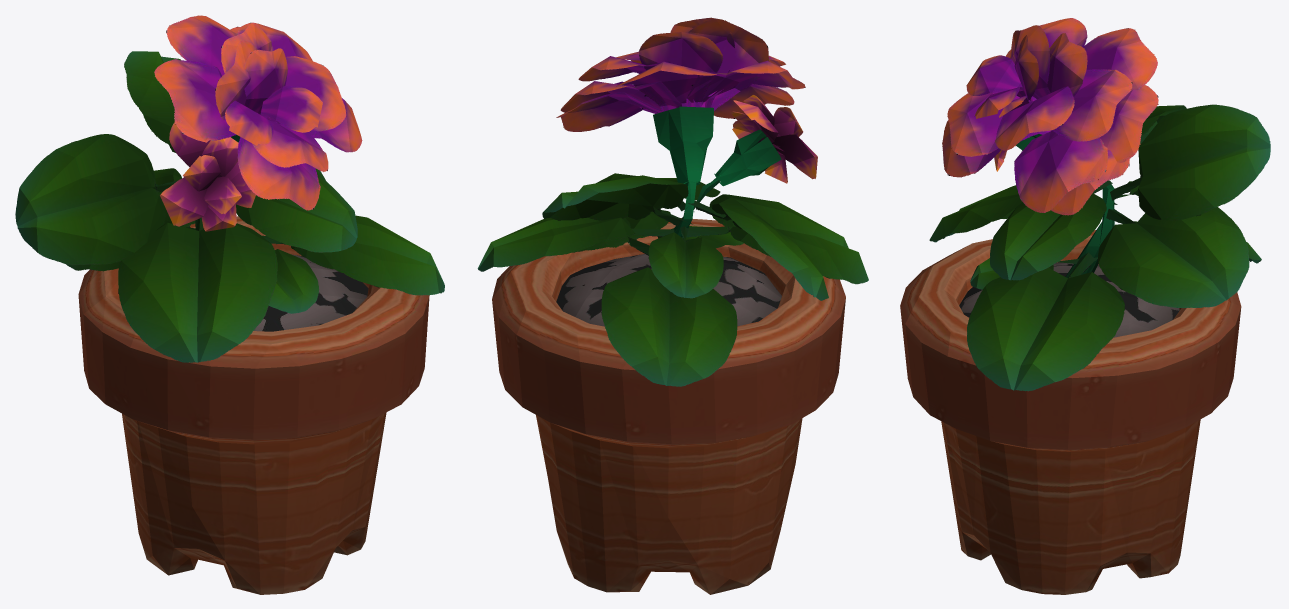
Rendered from VEG0310021.fbx.
3 views of the same model, side by side, from view 1: azimuth 30°, elevation 25°; view 2: azimuth 150°, elevation 25°; view 3: azimuth 270°, elevation 25° (orthographic). The views are drawn at different scales.
Visible parts, largest first — view 1: smVEG0310021; view 2: smVEG0310021; view 3: smVEG0310021.
Boxes of the visible parts, x1,y1,x2,y2 form: smVEG0310021: (15, 15, 444, 594); smVEG0310021: (477, 17, 868, 594); smVEG0310021: (900, 18, 1270, 594).
Bounding box in the file's own units: 25.87 × 36.63 × 23.88.
Materials: 1 (1 with a texture image).
